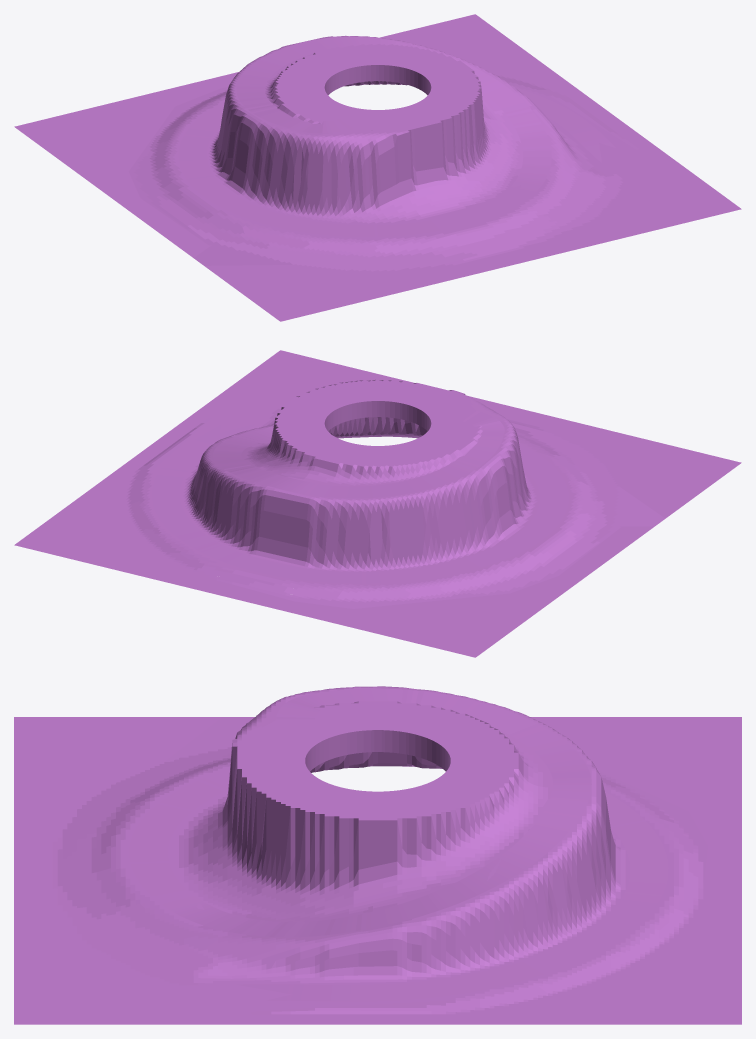
Rendered from terrain_mount_abu_collision.glb.
The picture shows the model from 3 angles, top to bottom: view 1: azimuth 30°, elevation 25°; view 2: azimuth 150°, elevation 25°; view 3: azimuth 270°, elevation 25°; orthographic projection. The views are drawn at different scales.
Visible parts, largest first — view 1: MountAbu_Collision; view 2: MountAbu_Collision; view 3: MountAbu_Collision.
Part boxes in pixels (bbox=[...]): MountAbu_Collision: bbox=[14, 14, 741, 321]; MountAbu_Collision: bbox=[14, 350, 741, 657]; MountAbu_Collision: bbox=[14, 686, 741, 1024].
Size of the model in its own units: 150 by 25.1 by 150.
